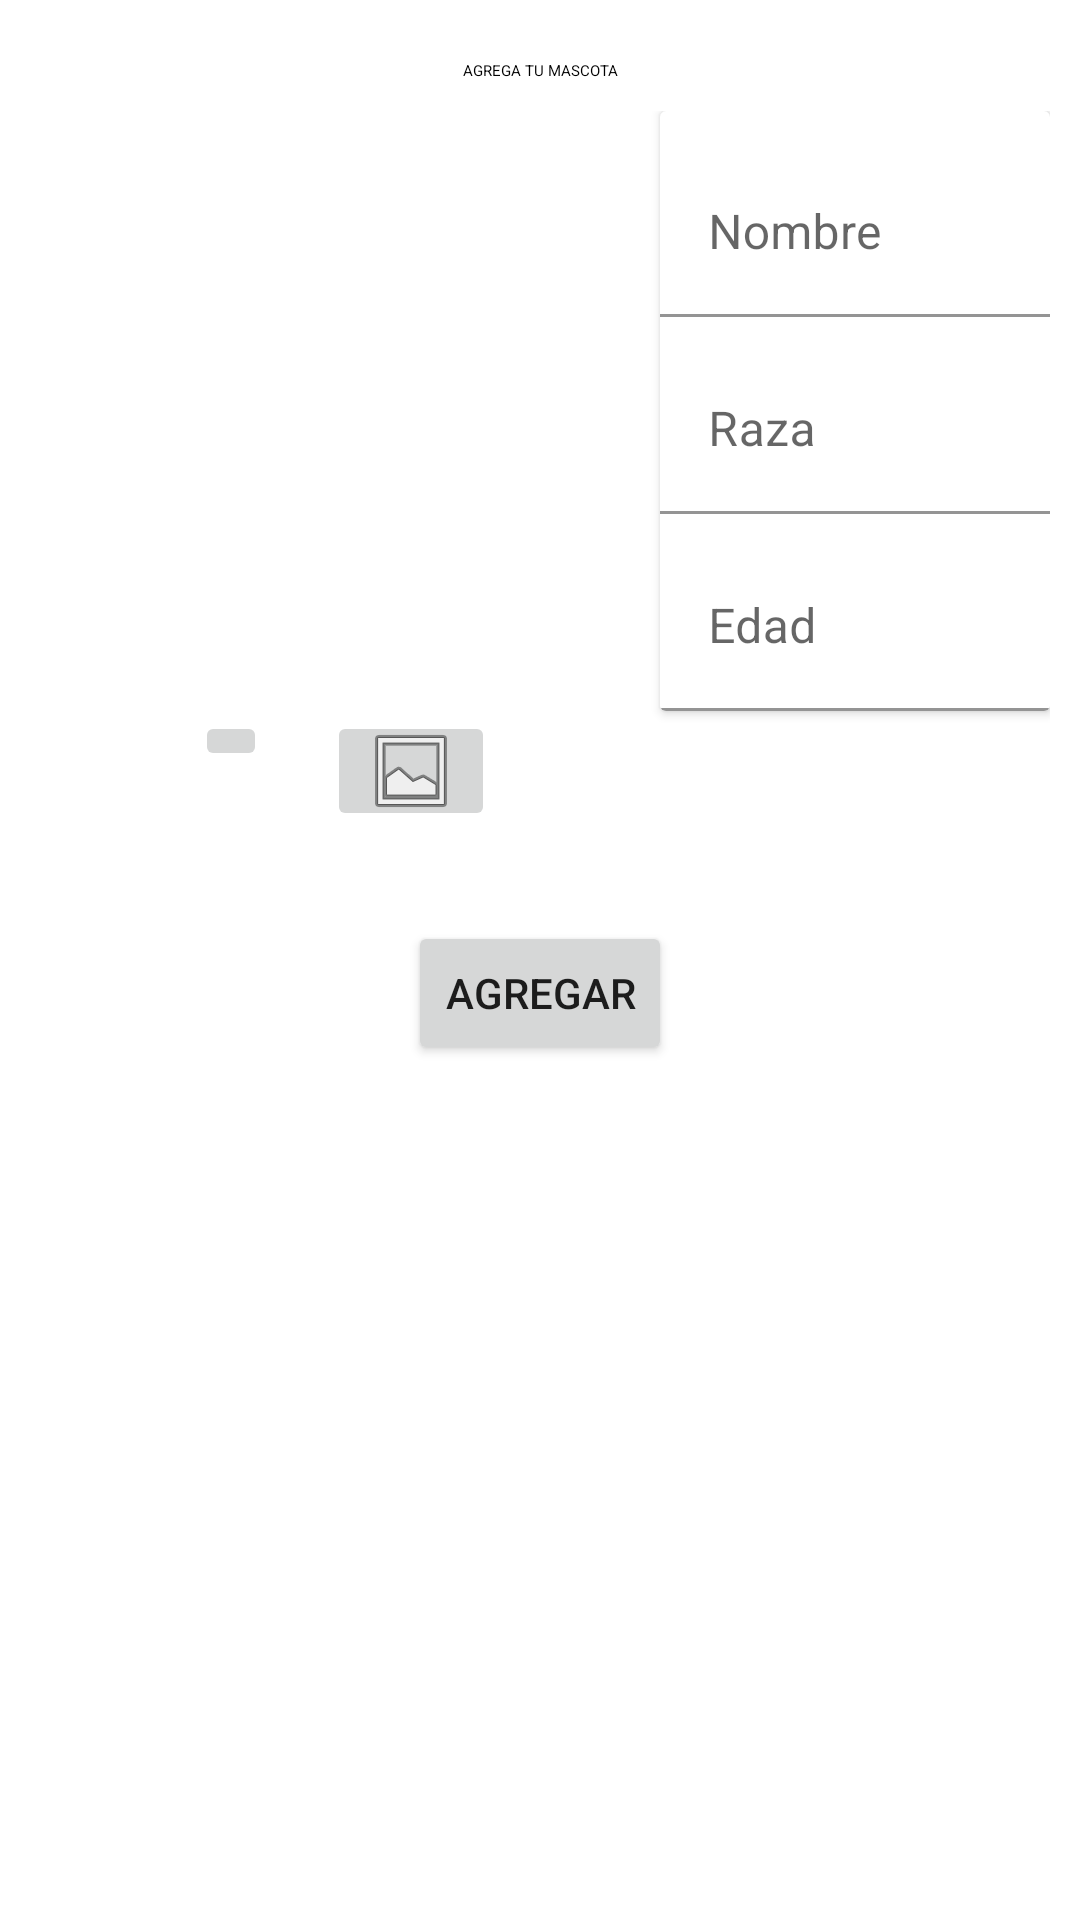

Icons on this 1080*1920 Android screen, each with the point to tap as (x=x, y=y):
gallery: (x=411, y=771)
